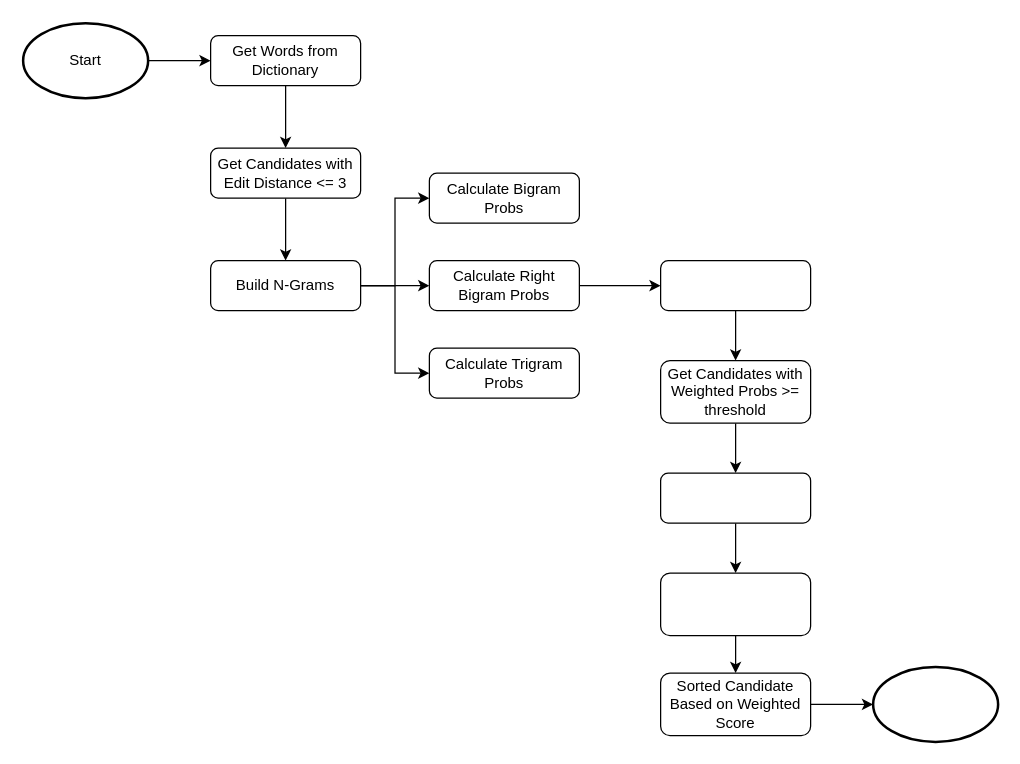
Some shapes in this 1020 by 764 pixel diagram are drawn without their labels. Each missing label, with the centre of its shape:
"Calculate Weighted Probs" goes at point 735,285.
"Calculates Weighted Score with Dist & Probs" goes at point 735,604.
"End" goes at point 935,703.
"Implement Double Metaphone Distance" goes at point 735,497.
